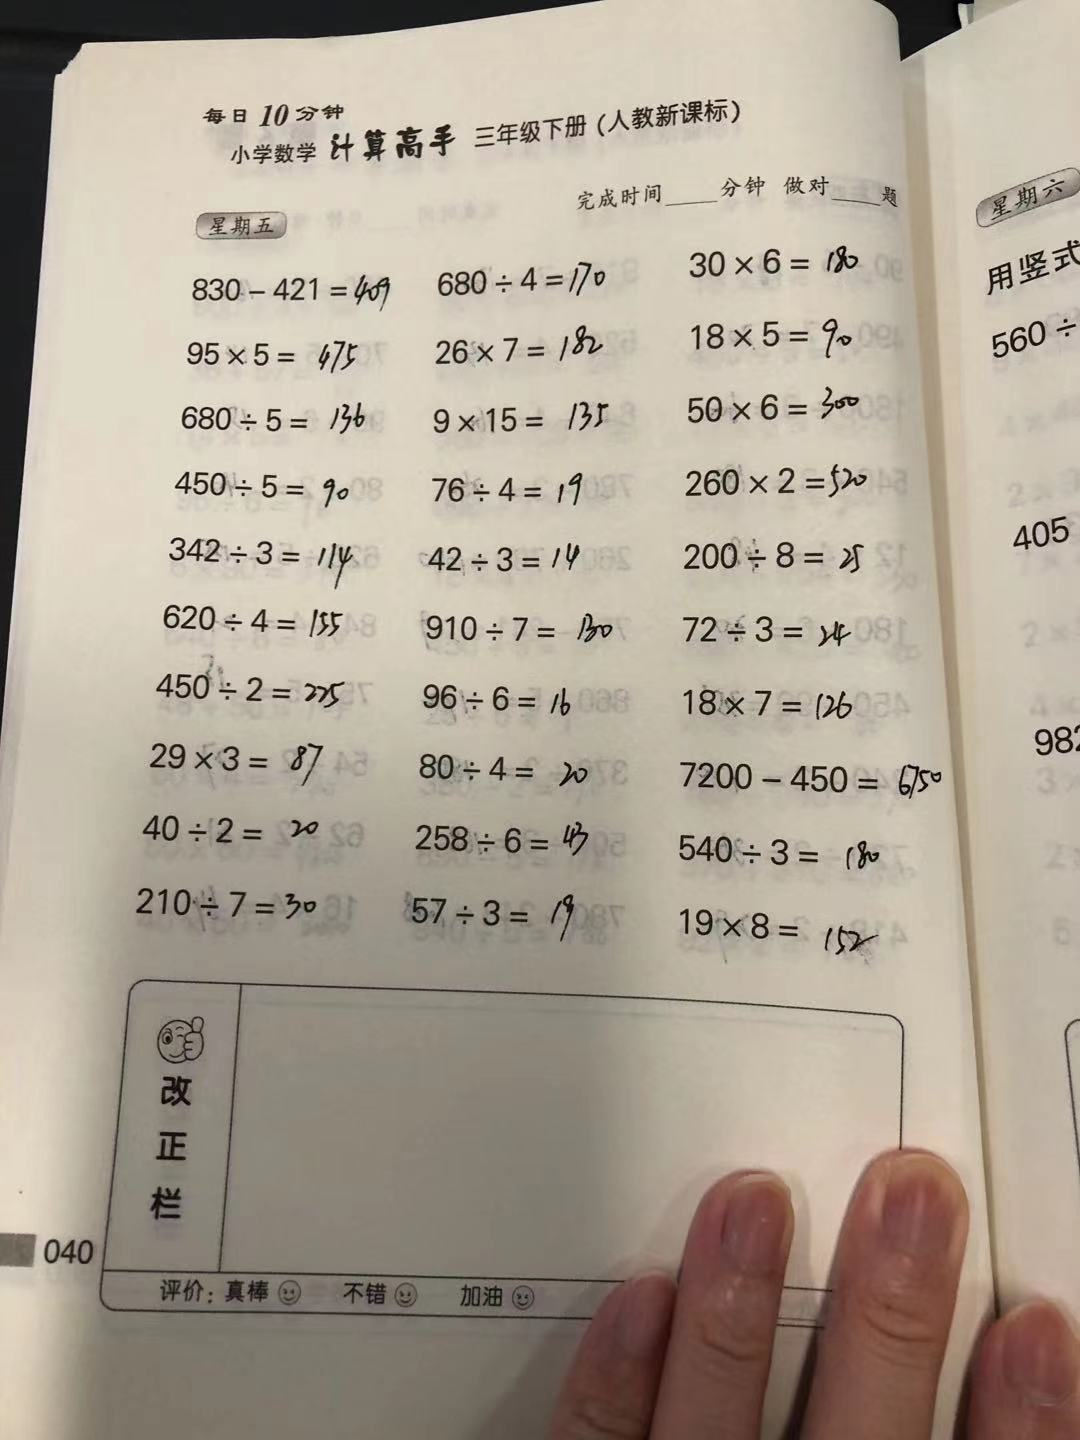equation: (664, 750, 959, 812), (651, 902, 901, 968), (397, 884, 627, 947), (168, 461, 433, 515), (176, 259, 414, 318), (661, 827, 905, 882), (170, 398, 410, 452), (662, 381, 885, 438), (141, 665, 376, 719), (659, 455, 893, 508), (127, 879, 341, 935), (653, 678, 882, 730), (150, 532, 374, 585), (401, 607, 631, 658), (124, 805, 342, 858), (142, 595, 373, 645), (144, 738, 353, 793), (404, 742, 616, 795), (428, 318, 617, 376), (671, 310, 871, 362), (174, 336, 390, 384), (410, 676, 611, 727), (667, 238, 876, 287), (676, 535, 882, 584), (407, 815, 617, 862), (661, 607, 873, 653), (427, 399, 636, 439), (410, 535, 616, 575), (427, 464, 607, 508), (430, 262, 619, 301)
